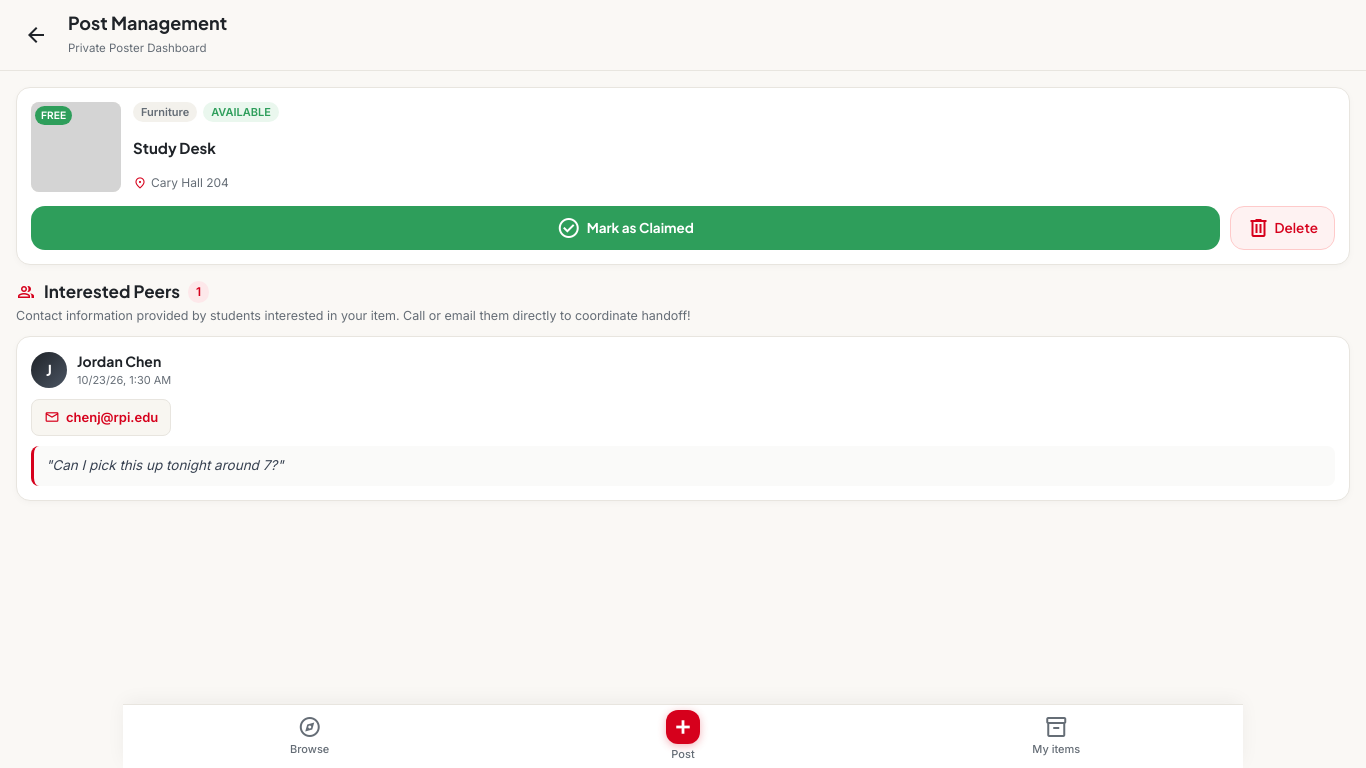
Test case: MyPostComponent › should toggle post status to CLAIMED via postService
The image size is (1366, 768).
Click the button with id "toggle-claimed-btn".
click(625, 228)  # box [31,206,1220,250]
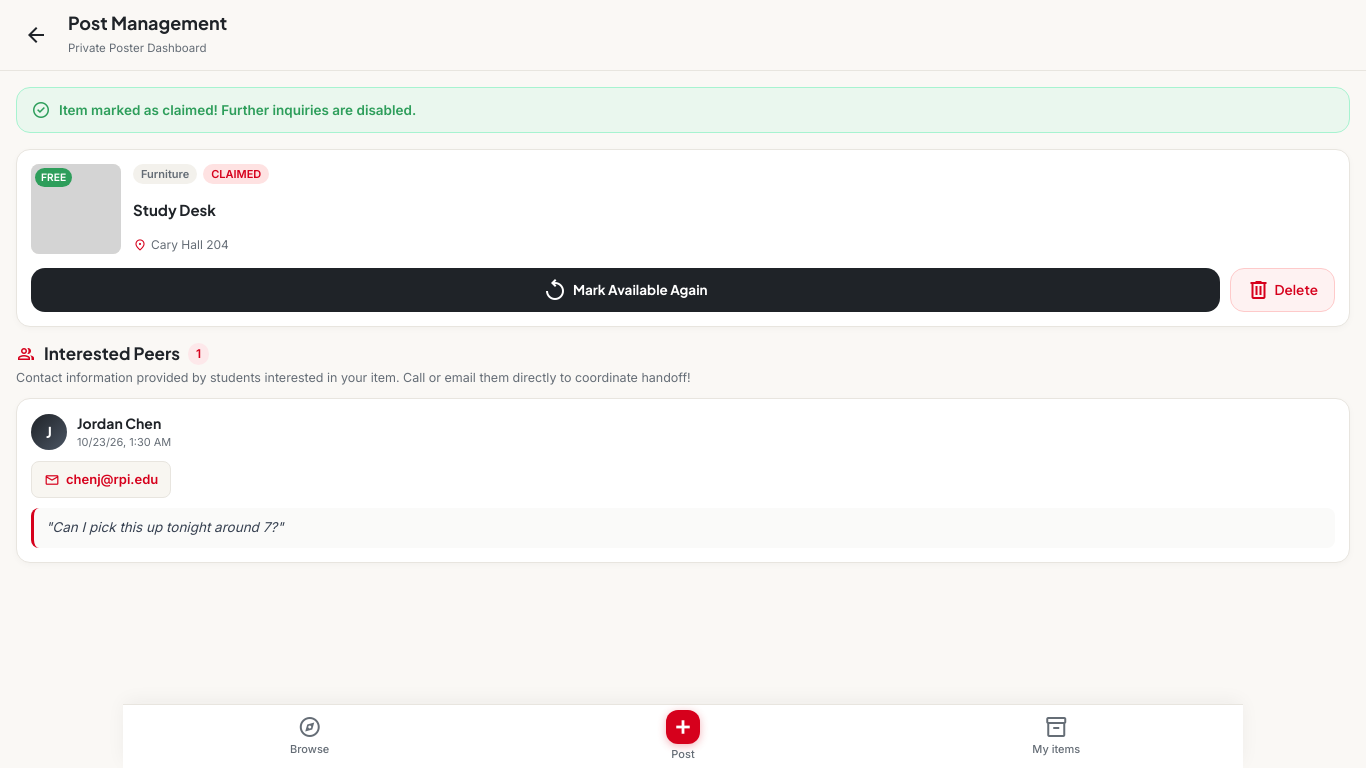
Check: the text "CLAIMED" is shown, box [203,164,269,184]
